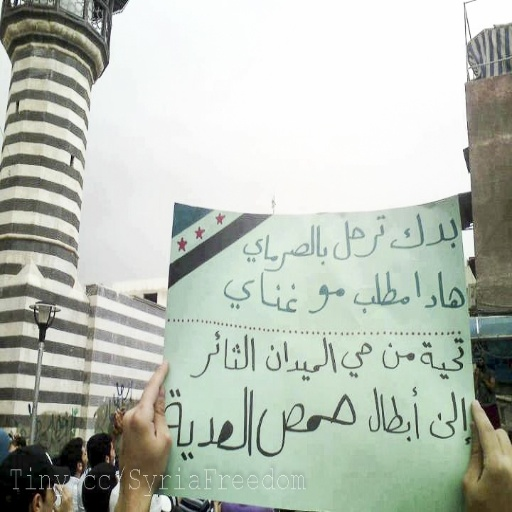hand: (78, 359, 186, 509), (461, 399, 510, 510), (52, 483, 73, 510), (112, 406, 126, 438), (115, 407, 122, 435)
